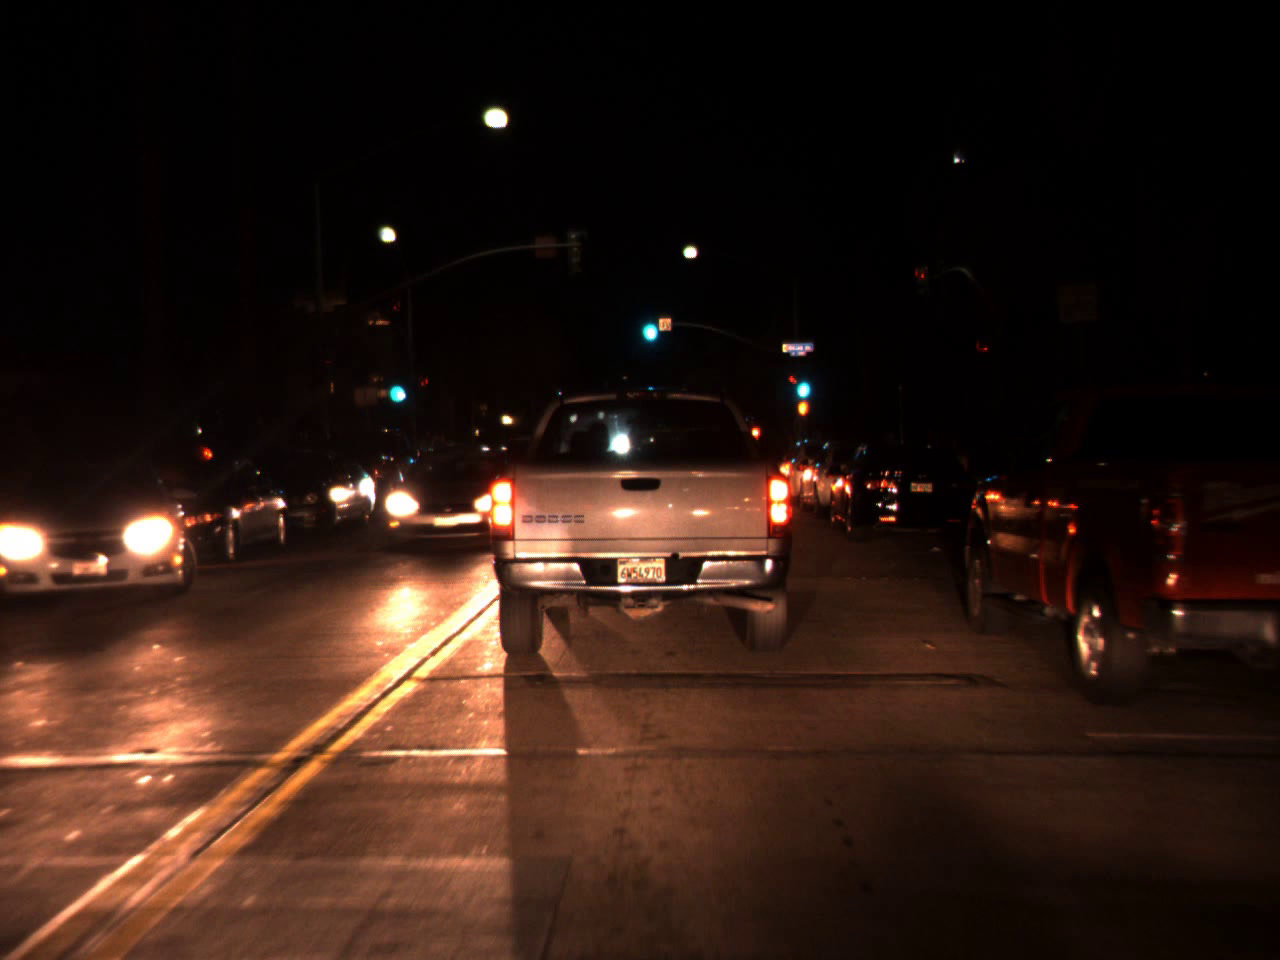go: (637, 302, 660, 347), (792, 363, 813, 402), (385, 366, 404, 408)
